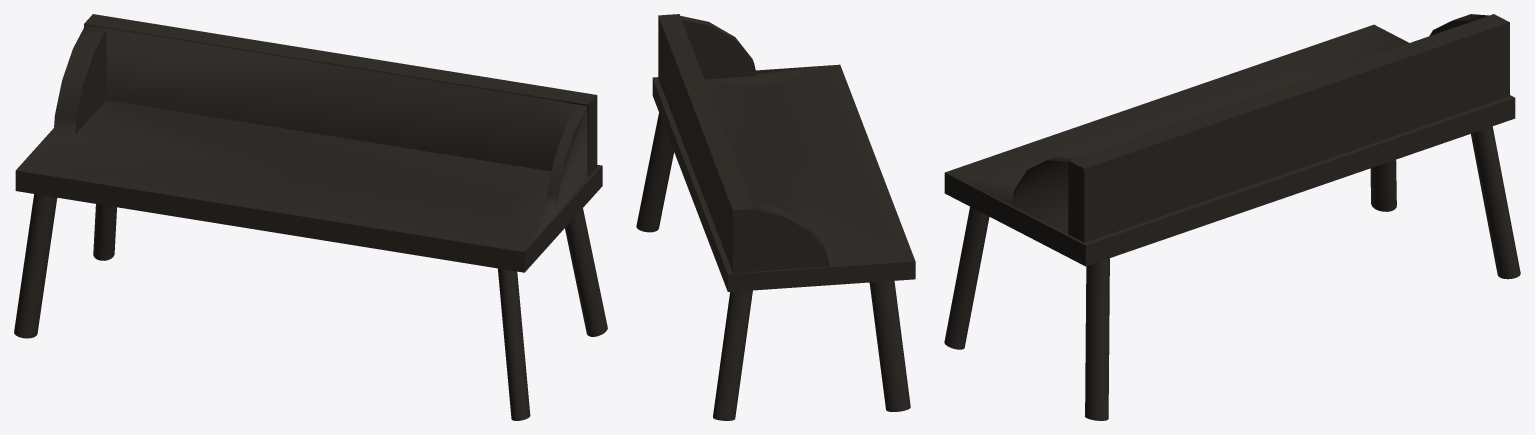
Rendered from escritorio.fbx.
3 renders of one model, left to right at view 1: azimuth 30°, elevation 25°; view 2: azimuth 150°, elevation 25°; view 3: azimuth 270°, elevation 25°, orthographic. The views are drawn at different scales.
Parts seen in each view (by area): view 1: Desp; view 2: Desp; view 3: Desp.
Boxes of the visible parts, bbox=[...] form: Desp: bbox=[14, 14, 607, 420]; Desp: bbox=[636, 14, 915, 420]; Desp: bbox=[944, 14, 1520, 420].
Size of the model in its own units: 216 by 111 by 233.
1 material, 1 textured.
